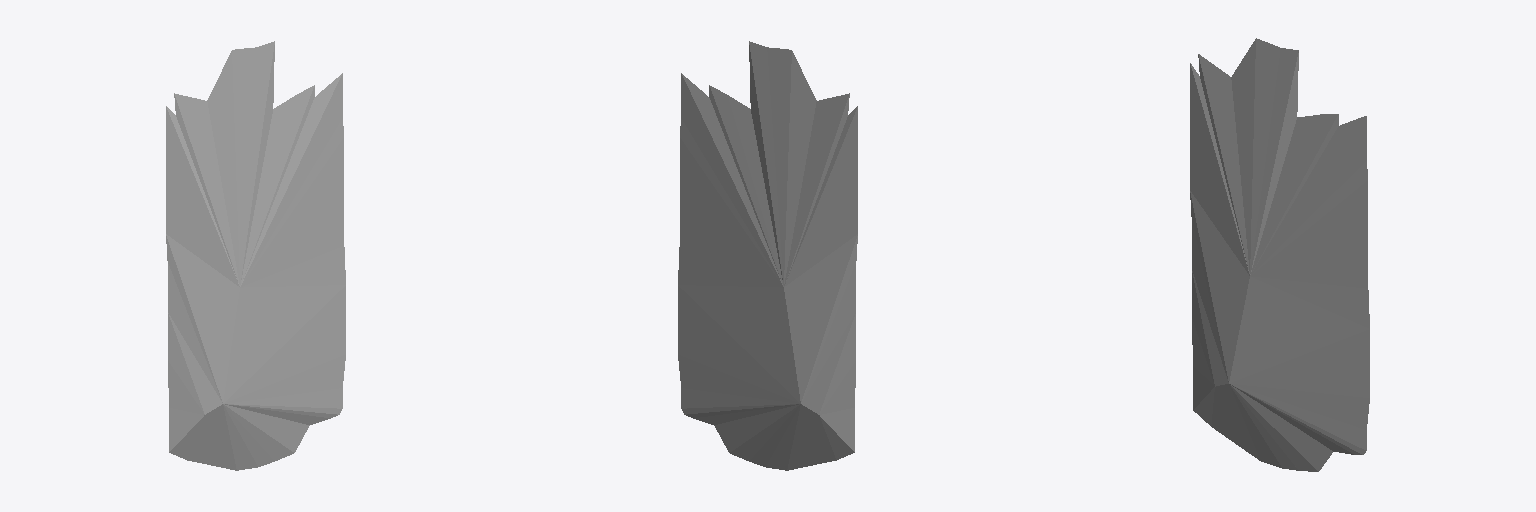
File: telefone.obj
The picture shows the model from 3 angles: view 1: azimuth 30°, elevation 25°; view 2: azimuth 150°, elevation 25°; view 3: azimuth 330°, elevation 25°; orthographic projection.
Parts seen in each view (by area): view 1: grp1; view 2: grp1; view 3: grp1.
Part boxes in pixels (x1,y1,x2,y2): grp1: (166,41,345,470); grp1: (678,41,857,470); grp1: (1190,38,1369,471).
Size of the model in its own units: 109 by 245 by 18.91.